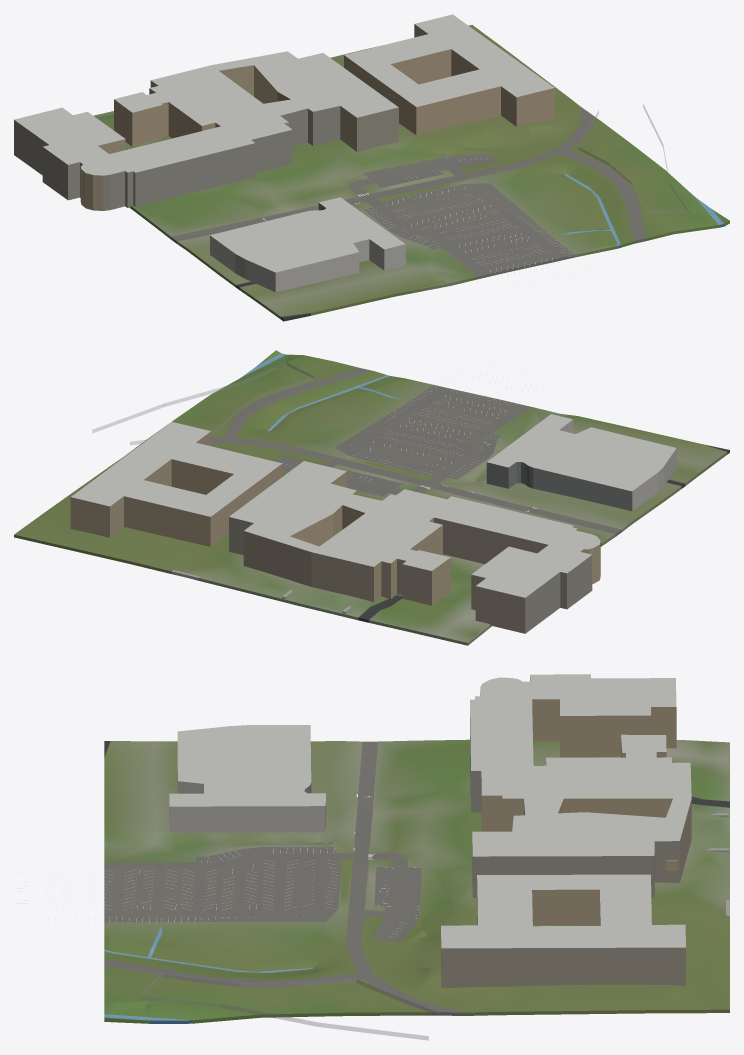
3 renders of one model, top to bottom at view 1: azimuth 30°, elevation 25°; view 2: azimuth 150°, elevation 25°; view 3: azimuth 270°, elevation 25°, orthographic. The views are drawn at different scales.
Parts seen in each view (by area): view 1: D-1-1.L0:utd:matte:flat, D-1-1.L0:utd:matte, D-1-1.L0:utd:glass:flat, D-1-1.L0:utd:water; view 2: D-1-1.L0:utd:matte:flat, D-1-1.L0:utd:matte, D-1-1.L0:utd:glass:flat, D-1-1.L0:utd:water; view 3: D-1-1.L0:utd:matte, D-1-1.L0:utd:matte:flat, D-1-1.L0:utd:glass:flat, D-1-1.L0:utd:water, D-1-1.L0:utd:paint:flat.
Part boxes in pixels (x1,y1,x2,y2): D-1-1.L0:utd:matte:flat: (14,14,554,292); D-1-1.L0:utd:matte: (93,25,729,321); D-1-1.L0:utd:glass:flat: (578,103,688,214); D-1-1.L0:utd:water: (560,174,723,245); D-1-1.L0:utd:matte:flat: (70,414,676,633); D-1-1.L0:utd:matte: (14,350,729,645); D-1-1.L0:utd:glass:flat: (92,362,315,444); D-1-1.L0:utd:water: (241,353,400,430); D-1-1.L0:utd:matte: (104,739,729,1023); D-1-1.L0:utd:matte:flat: (169,674,729,987); D-1-1.L0:utd:glass:flat: (141,973,437,1040); D-1-1.L0:utd:water: (104,926,313,1020); D-1-1.L0:utd:paint:flat: (14,794,404,937).
Size of the model in its own units: 306 by 27.68 by 293.
